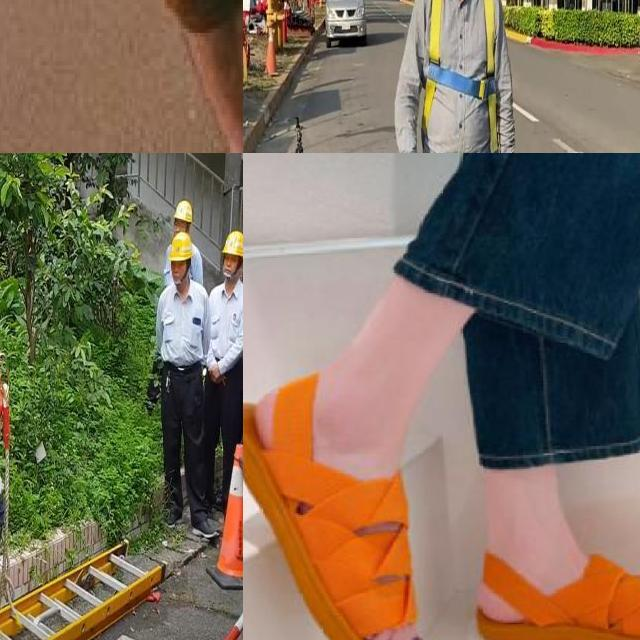Harness: (423, 0, 499, 153)
Sandals: (243, 359, 436, 640), (460, 515, 640, 640)
